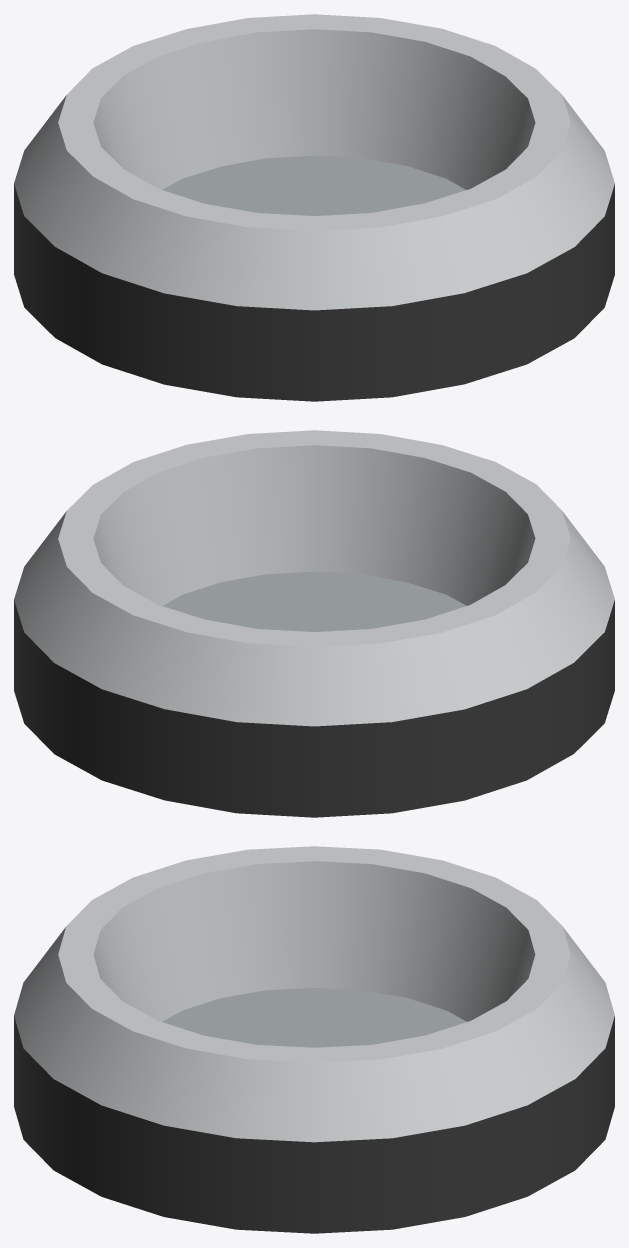
File: Turret_012.fbx
The picture shows the model from 3 angles, top to bottom: view 1: azimuth 30°, elevation 25°; view 2: azimuth 150°, elevation 25°; view 3: azimuth 270°, elevation 25°; orthographic projection.
Parts seen in each view (by area): view 1: Turret_012; view 2: Turret_012; view 3: Turret_012.
Part boxes in pixels (x1,y1,x2,y2): Turret_012: [14, 14, 614, 401]; Turret_012: [14, 430, 614, 817]; Turret_012: [14, 846, 614, 1233].
Bounding box in the file's own units: 99.53 × 99.6 × 27.86.
